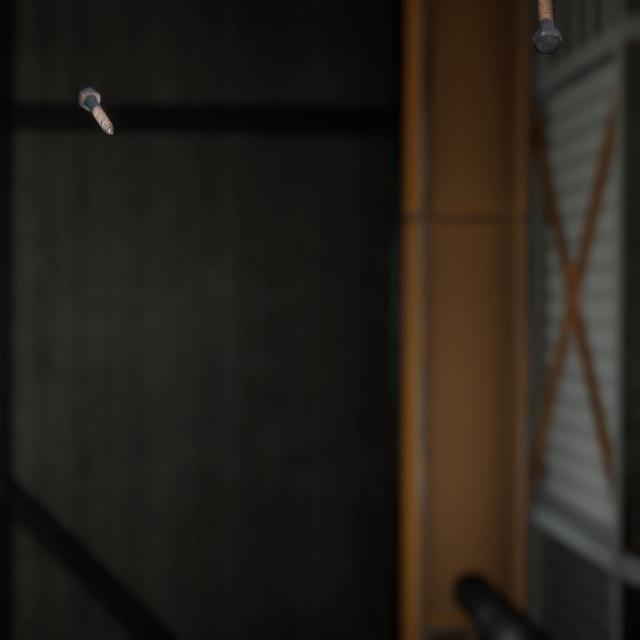bolt: (73, 71, 118, 127), (527, 0, 567, 50)
